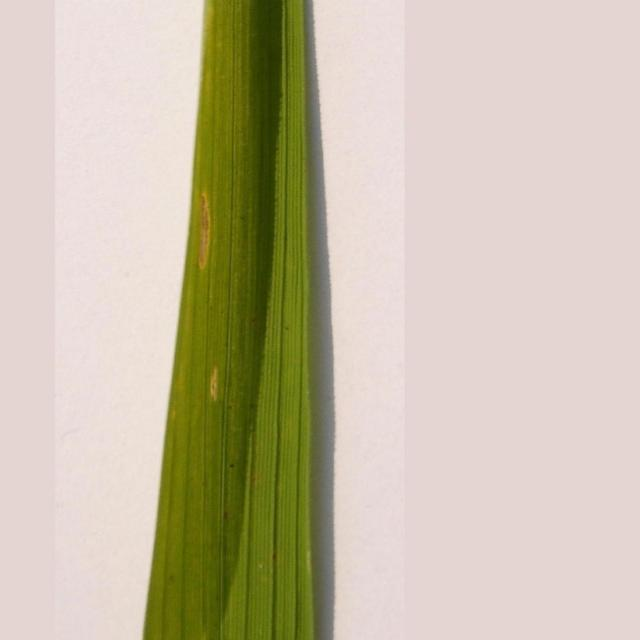leaf blight: (189, 182, 225, 408)
